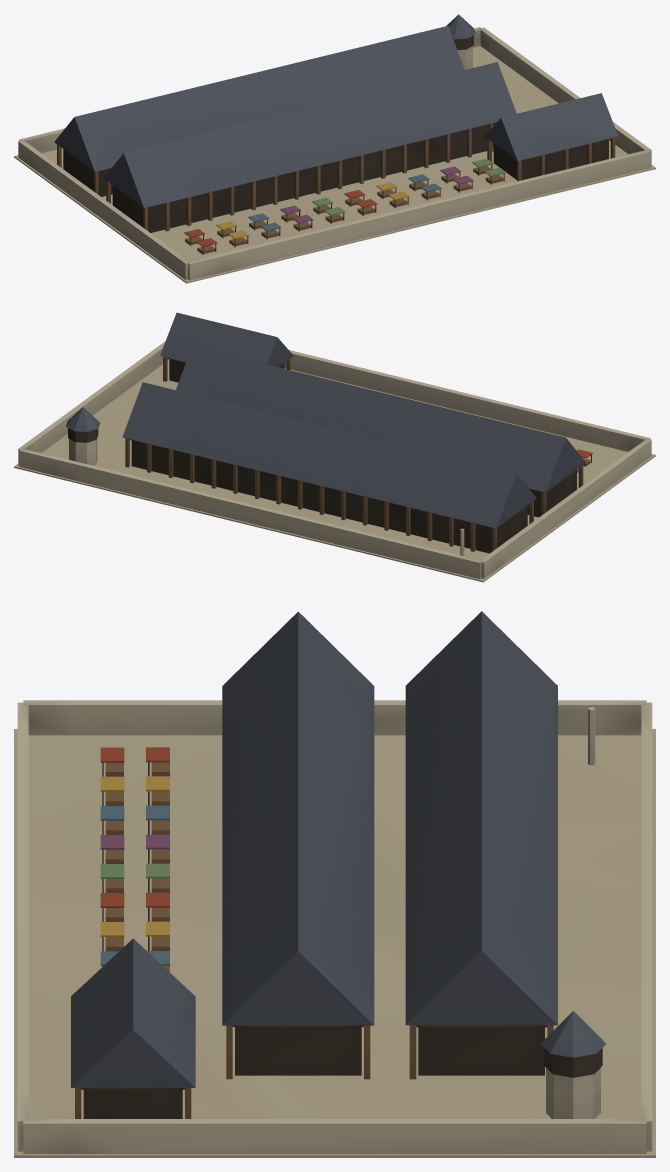
The model's file is les-halles.glb.
3 renders of one model, top to bottom at view 1: azimuth 30°, elevation 25°; view 2: azimuth 150°, elevation 25°; view 3: azimuth 270°, elevation 25°, orthographic. The views are drawn at different scales.
Visible parts, largest first — view 1: p1_halls, p0_walls, p2_stalls; view 2: p1_halls, p0_walls, p2_stalls; view 3: p0_walls, p1_halls, p2_stalls.
Part boxes in pixels (x1=…): p1_halls: x1=54, y1=26, x2=618, y2=232; p0_walls: x1=14, y1=27, x2=655, y2=283; p2_stalls: x1=184, y1=14, x2=505, y2=254; p1_halls: x1=122, y1=312, x2=586, y2=553; p0_walls: x1=14, y1=341, x2=655, y2=582; p2_stalls: x1=66, y1=407, x2=592, y2=555; p0_walls: x1=14, y1=700, x2=655, y2=1157; p1_halls: x1=71, y1=611, x2=557, y2=1118; p2_stalls: x1=100, y1=707, x2=605, y2=1118.
Size of the model in its own units: 110 by 16.04 by 70.
